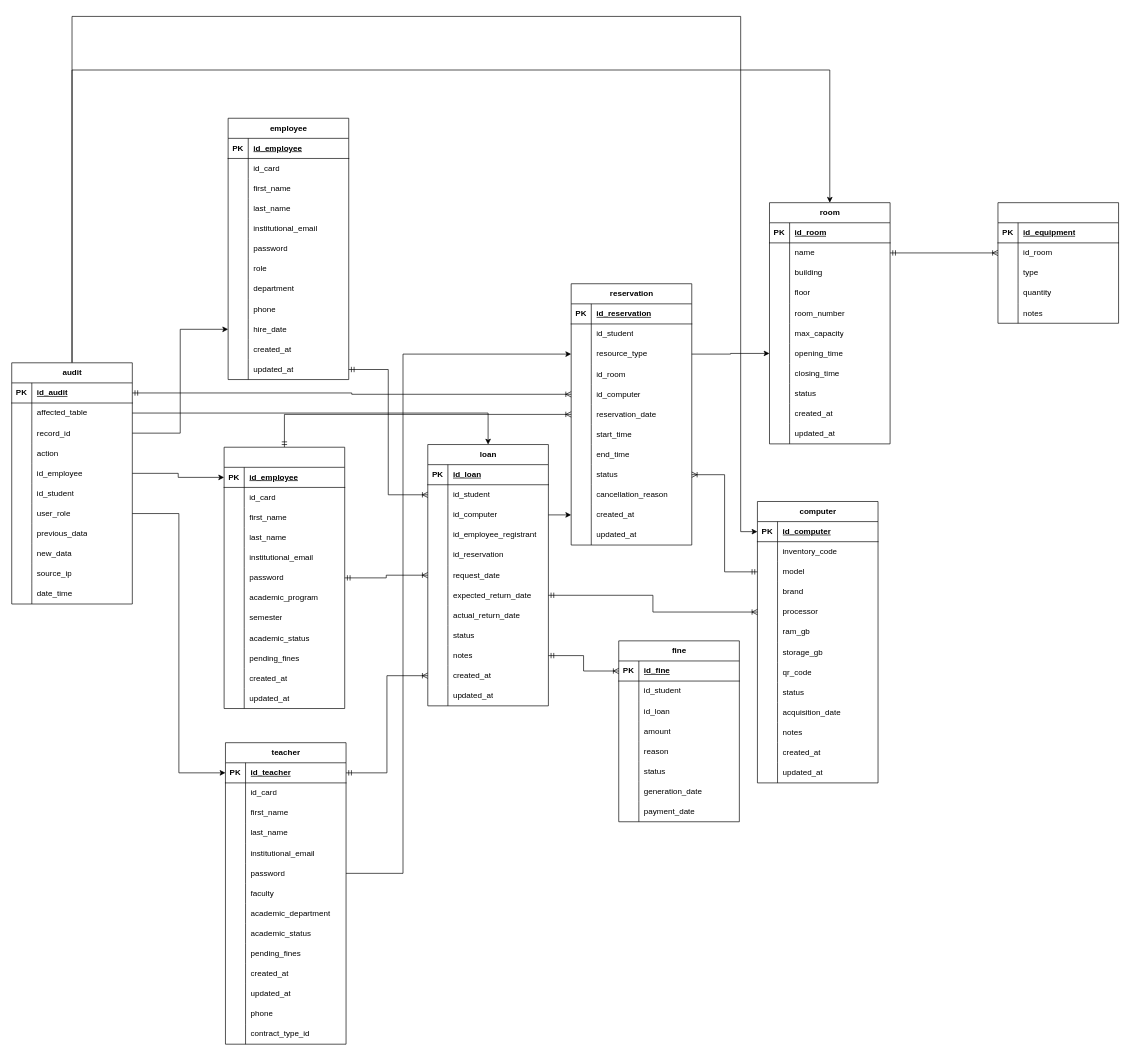
This 1130x1056 diagram has some shape labels left out. The box of each missing label's shape, as (x1, y1, x2, y2) in pixels:
room_equipment: (997, 202, 1119, 323)
student: (223, 447, 345, 709)
